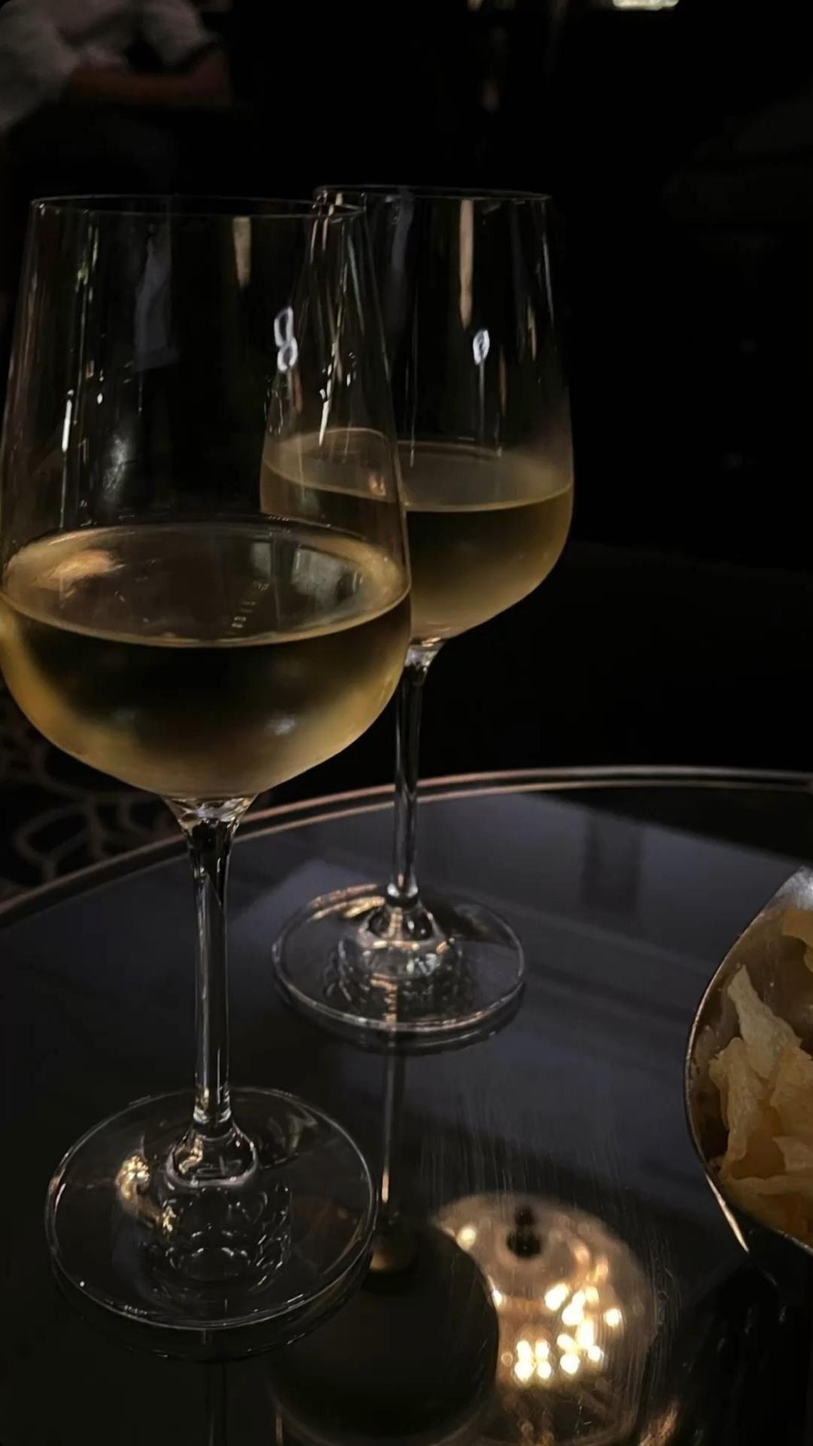glass-wine: (0, 171, 417, 1371), (254, 176, 583, 1042)
